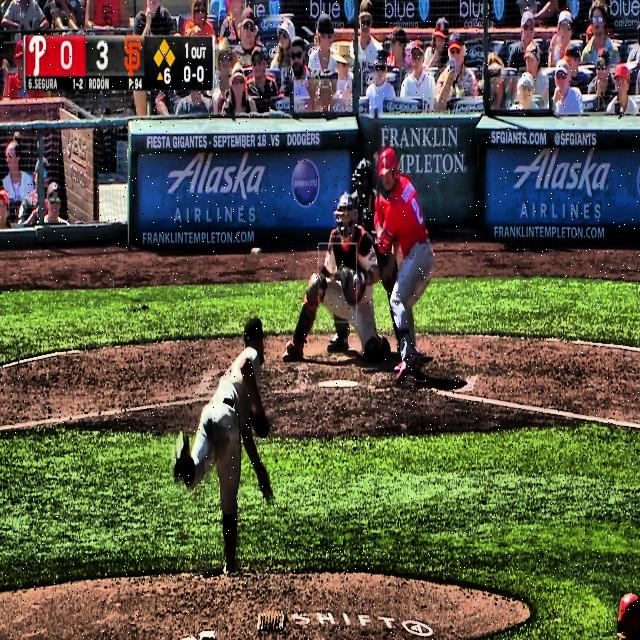baseball: (251, 247, 262, 260)
